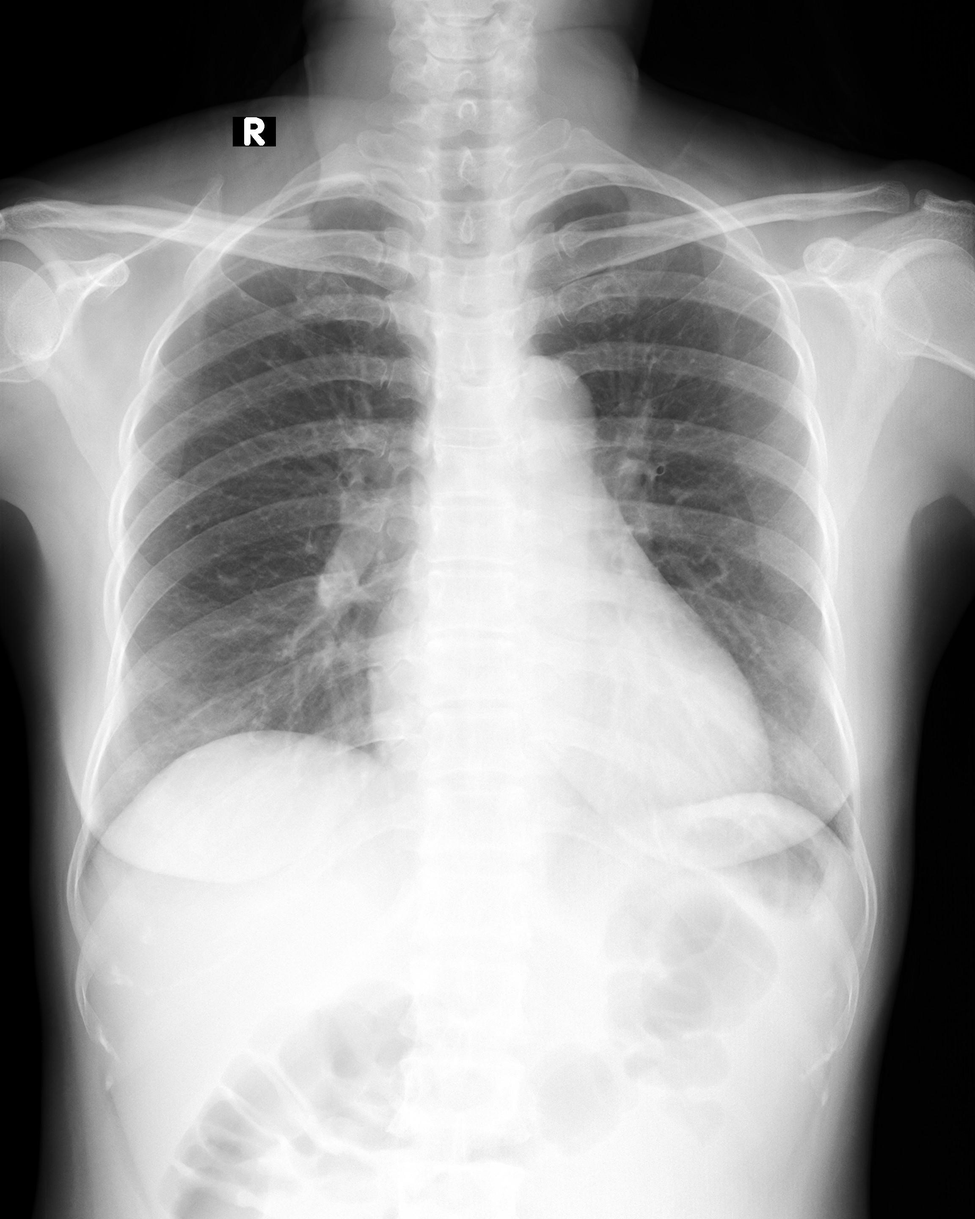Aortic enlargement: (484, 355, 598, 482)
Cardiomegaly: (364, 653, 771, 810)
Pleural thickening: (524, 186, 650, 232)
